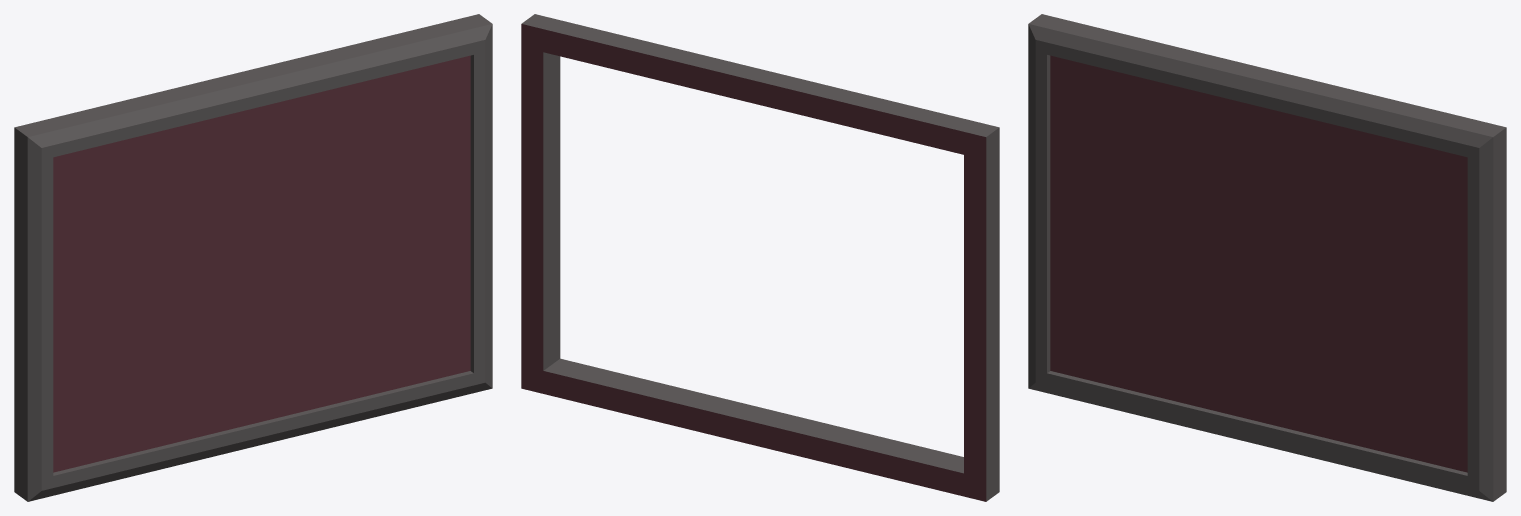
The model's file is scifi-scifi-window-big.glb.
3 renders of one model, left to right at view 1: azimuth 30°, elevation 25°; view 2: azimuth 150°, elevation 25°; view 3: azimuth 330°, elevation 25°, orthographic.
Parts seen in each view (by area): view 1: scifi-window-big; view 2: scifi-window-big; view 3: scifi-window-big.
Part boxes in pixels (x1,y1,x2,y2): scifi-window-big: (14, 14, 492, 501); scifi-window-big: (521, 14, 999, 501); scifi-window-big: (1028, 14, 1506, 501).
Size of the model in its own units: 4 by 3 by 0.25.
